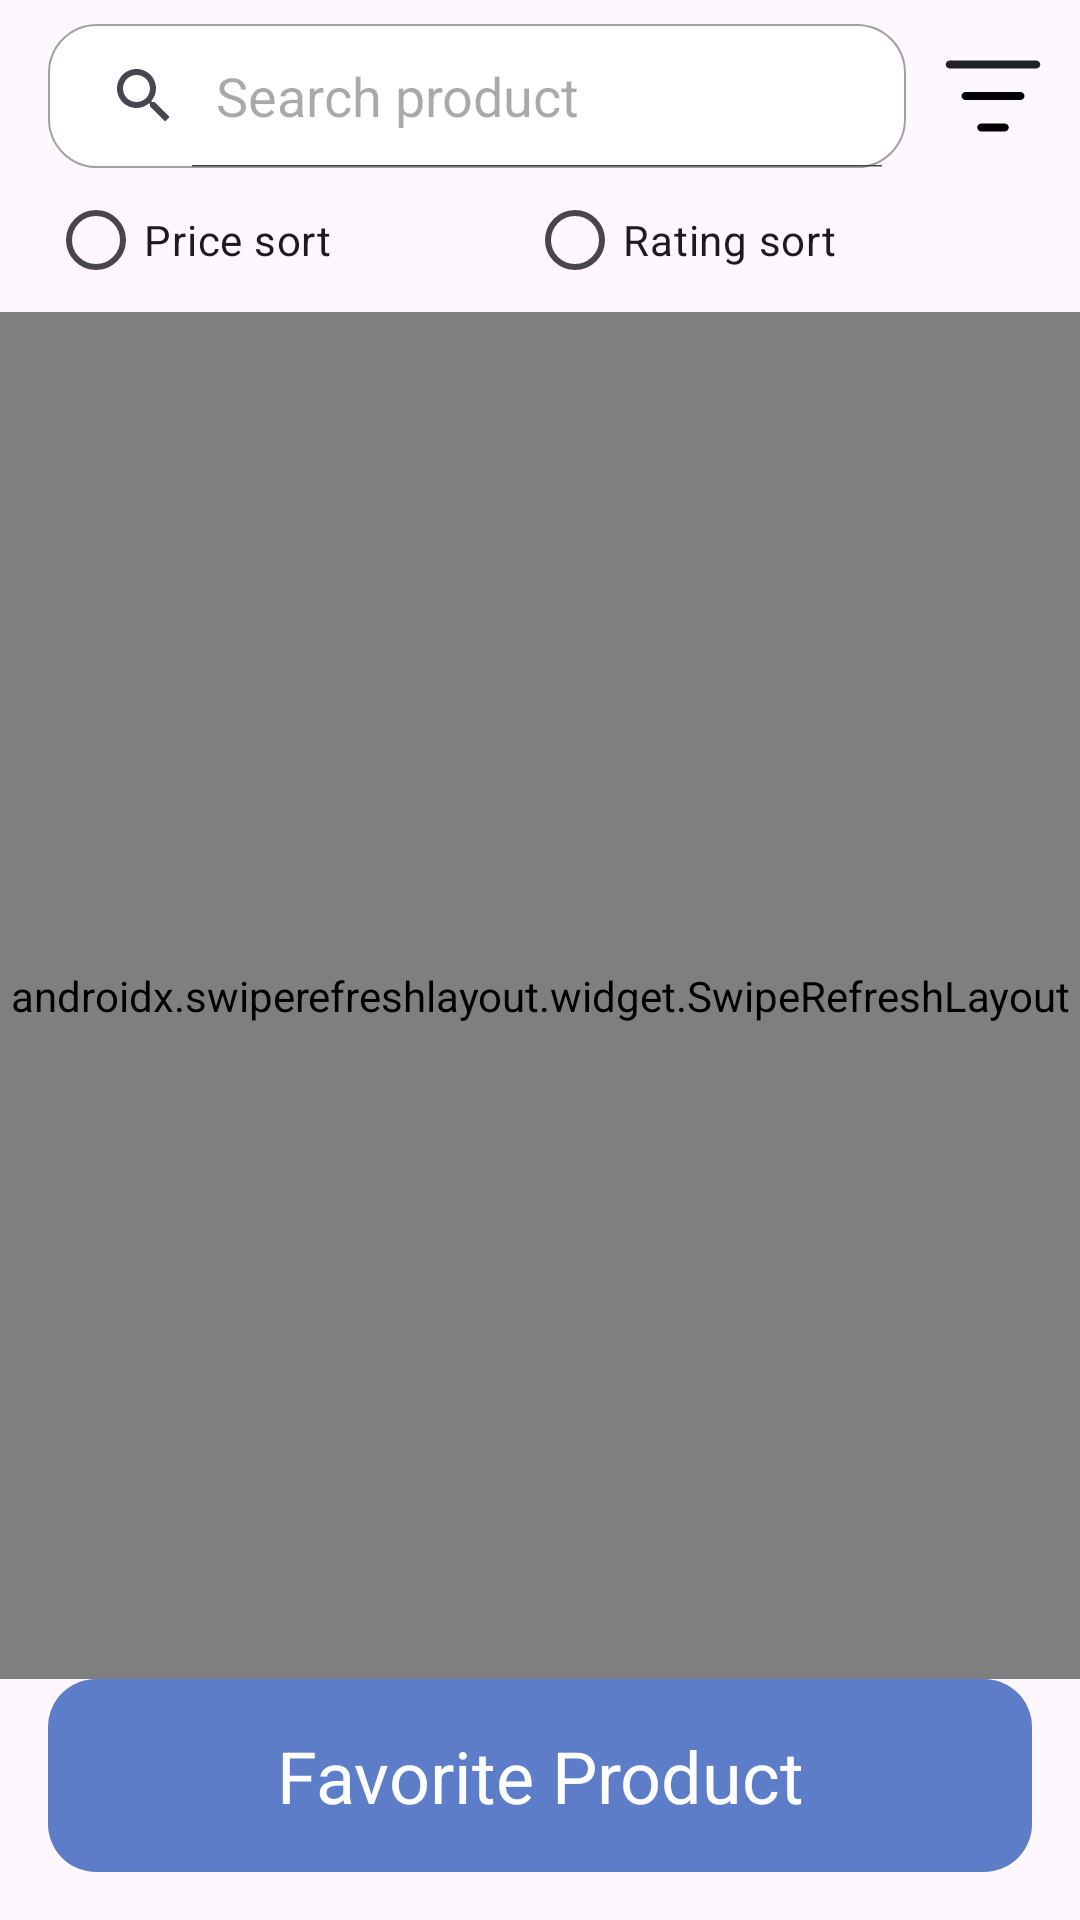

Where to tap for icons on this 1080 × 1920 app screen, as (x=x, y=y):
filter: (x=993, y=96)
